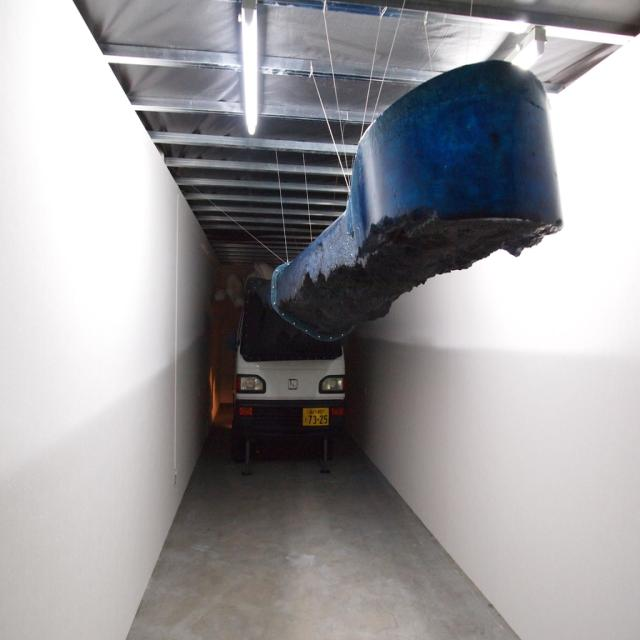car: (220, 274, 359, 473)
